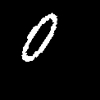chain: (22, 13, 56, 61)
